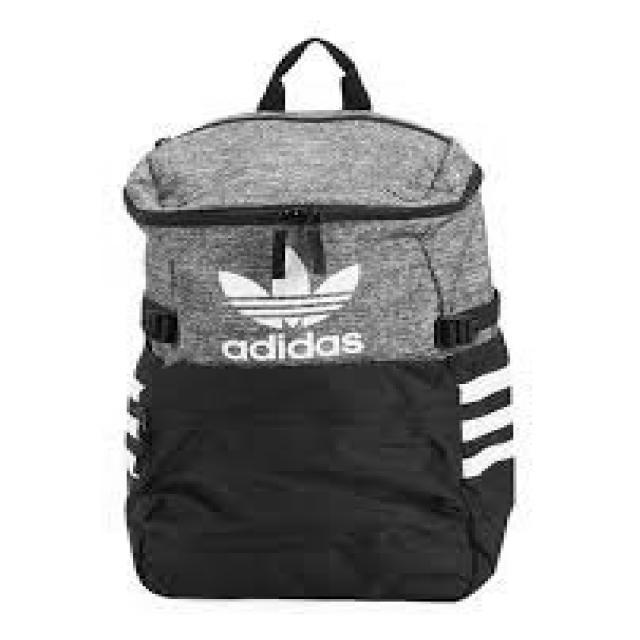Adidas: (206, 237, 370, 362)
